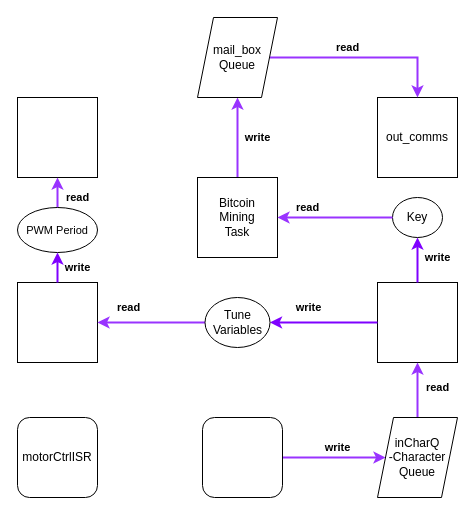
The diagram is 475 pixels wide and 515 high, and some of its shapes have lost their labels. Here are the shapes that lost their labels. From the top down, the centre of each, then its label:
point (57, 137): motorCtrlT
point (57, 322): tunerThread
point (417, 322): in_comms
point (242, 457): SerialISR
